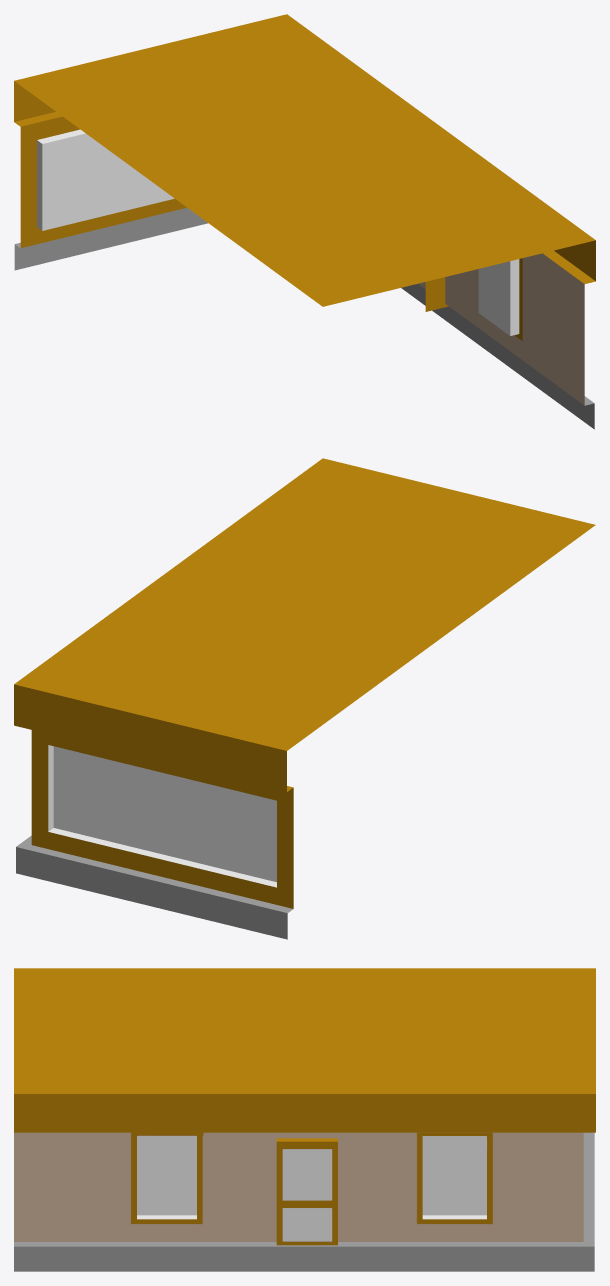
Rendered from shops.fbx.
3 renders of one model, top to bottom at view 1: azimuth 30°, elevation 25°; view 2: azimuth 150°, elevation 25°; view 3: azimuth 270°, elevation 25°, orthographic. The views are drawn at different scales.
Visible parts, largest first — view 1: Shop2; view 2: Shop2; view 3: Shop2.
Part boxes in pixels (<box>): Shop2: <box>14,14,595,429</box>; Shop2: <box>14,458,595,939</box>; Shop2: <box>14,968,595,1271</box>.
Bounding box in the file's own units: 6.26 × 4.14 × 12.26.
